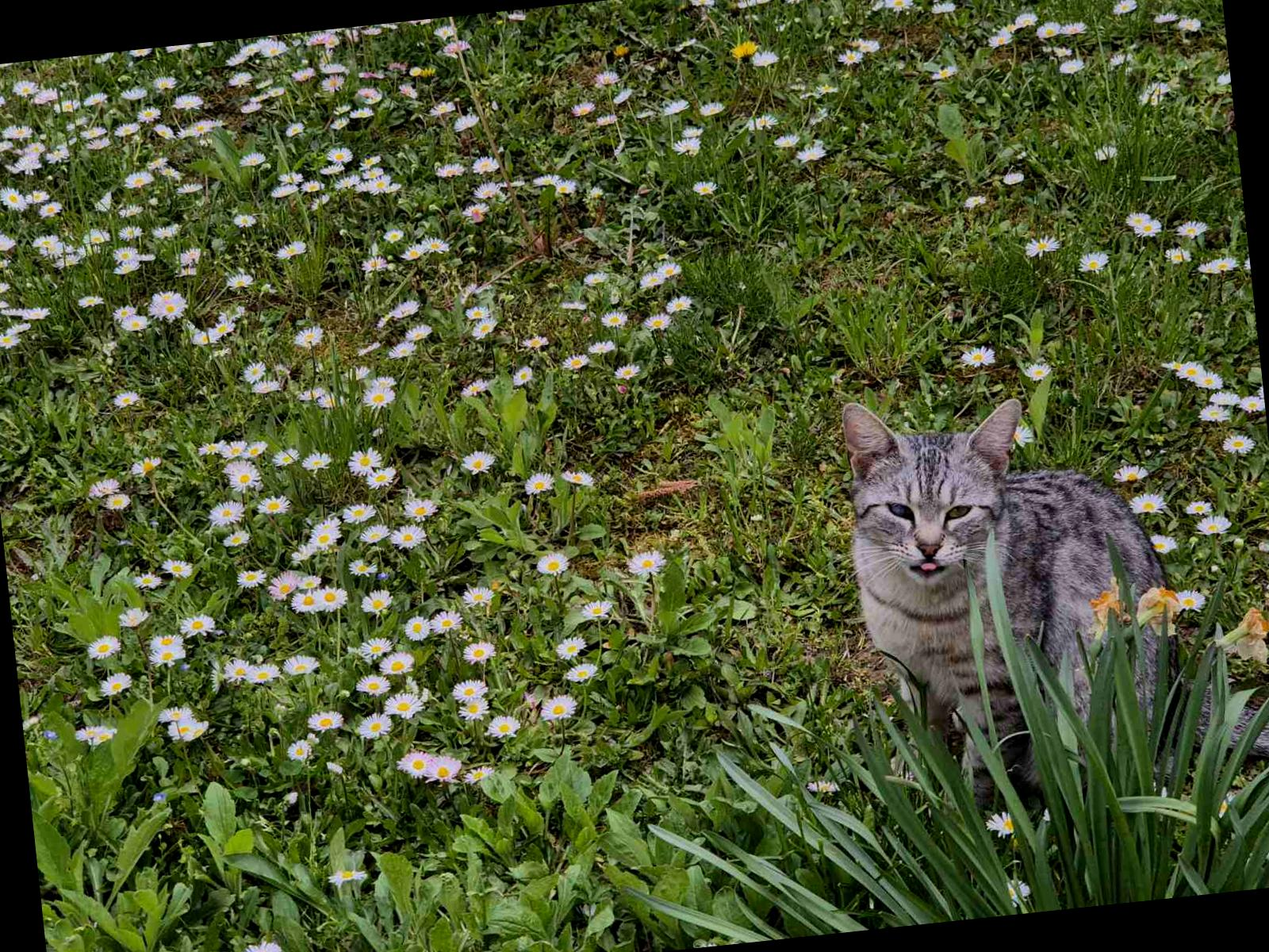macka: (840, 359, 1269, 869)
